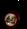Speed Limit -60-: (0, 6, 21, 29)
